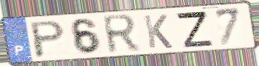6: (68, 17, 103, 57)
7: (214, 6, 242, 48)
K: (142, 14, 174, 50)
P: (29, 19, 67, 60)
R: (101, 13, 142, 57)
Z: (174, 11, 216, 49)
